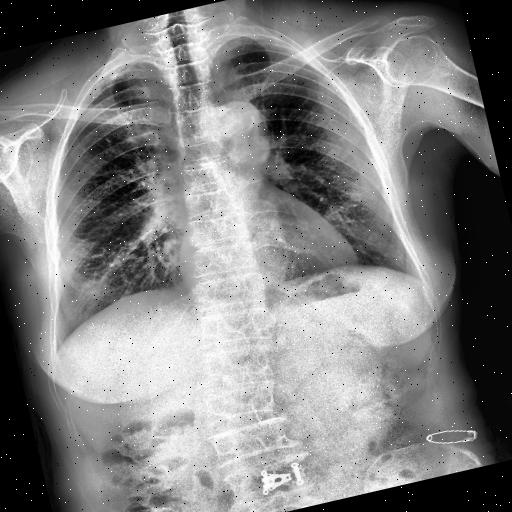0- Aortic enlargement: (200, 97, 276, 179), (204, 96, 274, 176), (211, 94, 272, 154)
